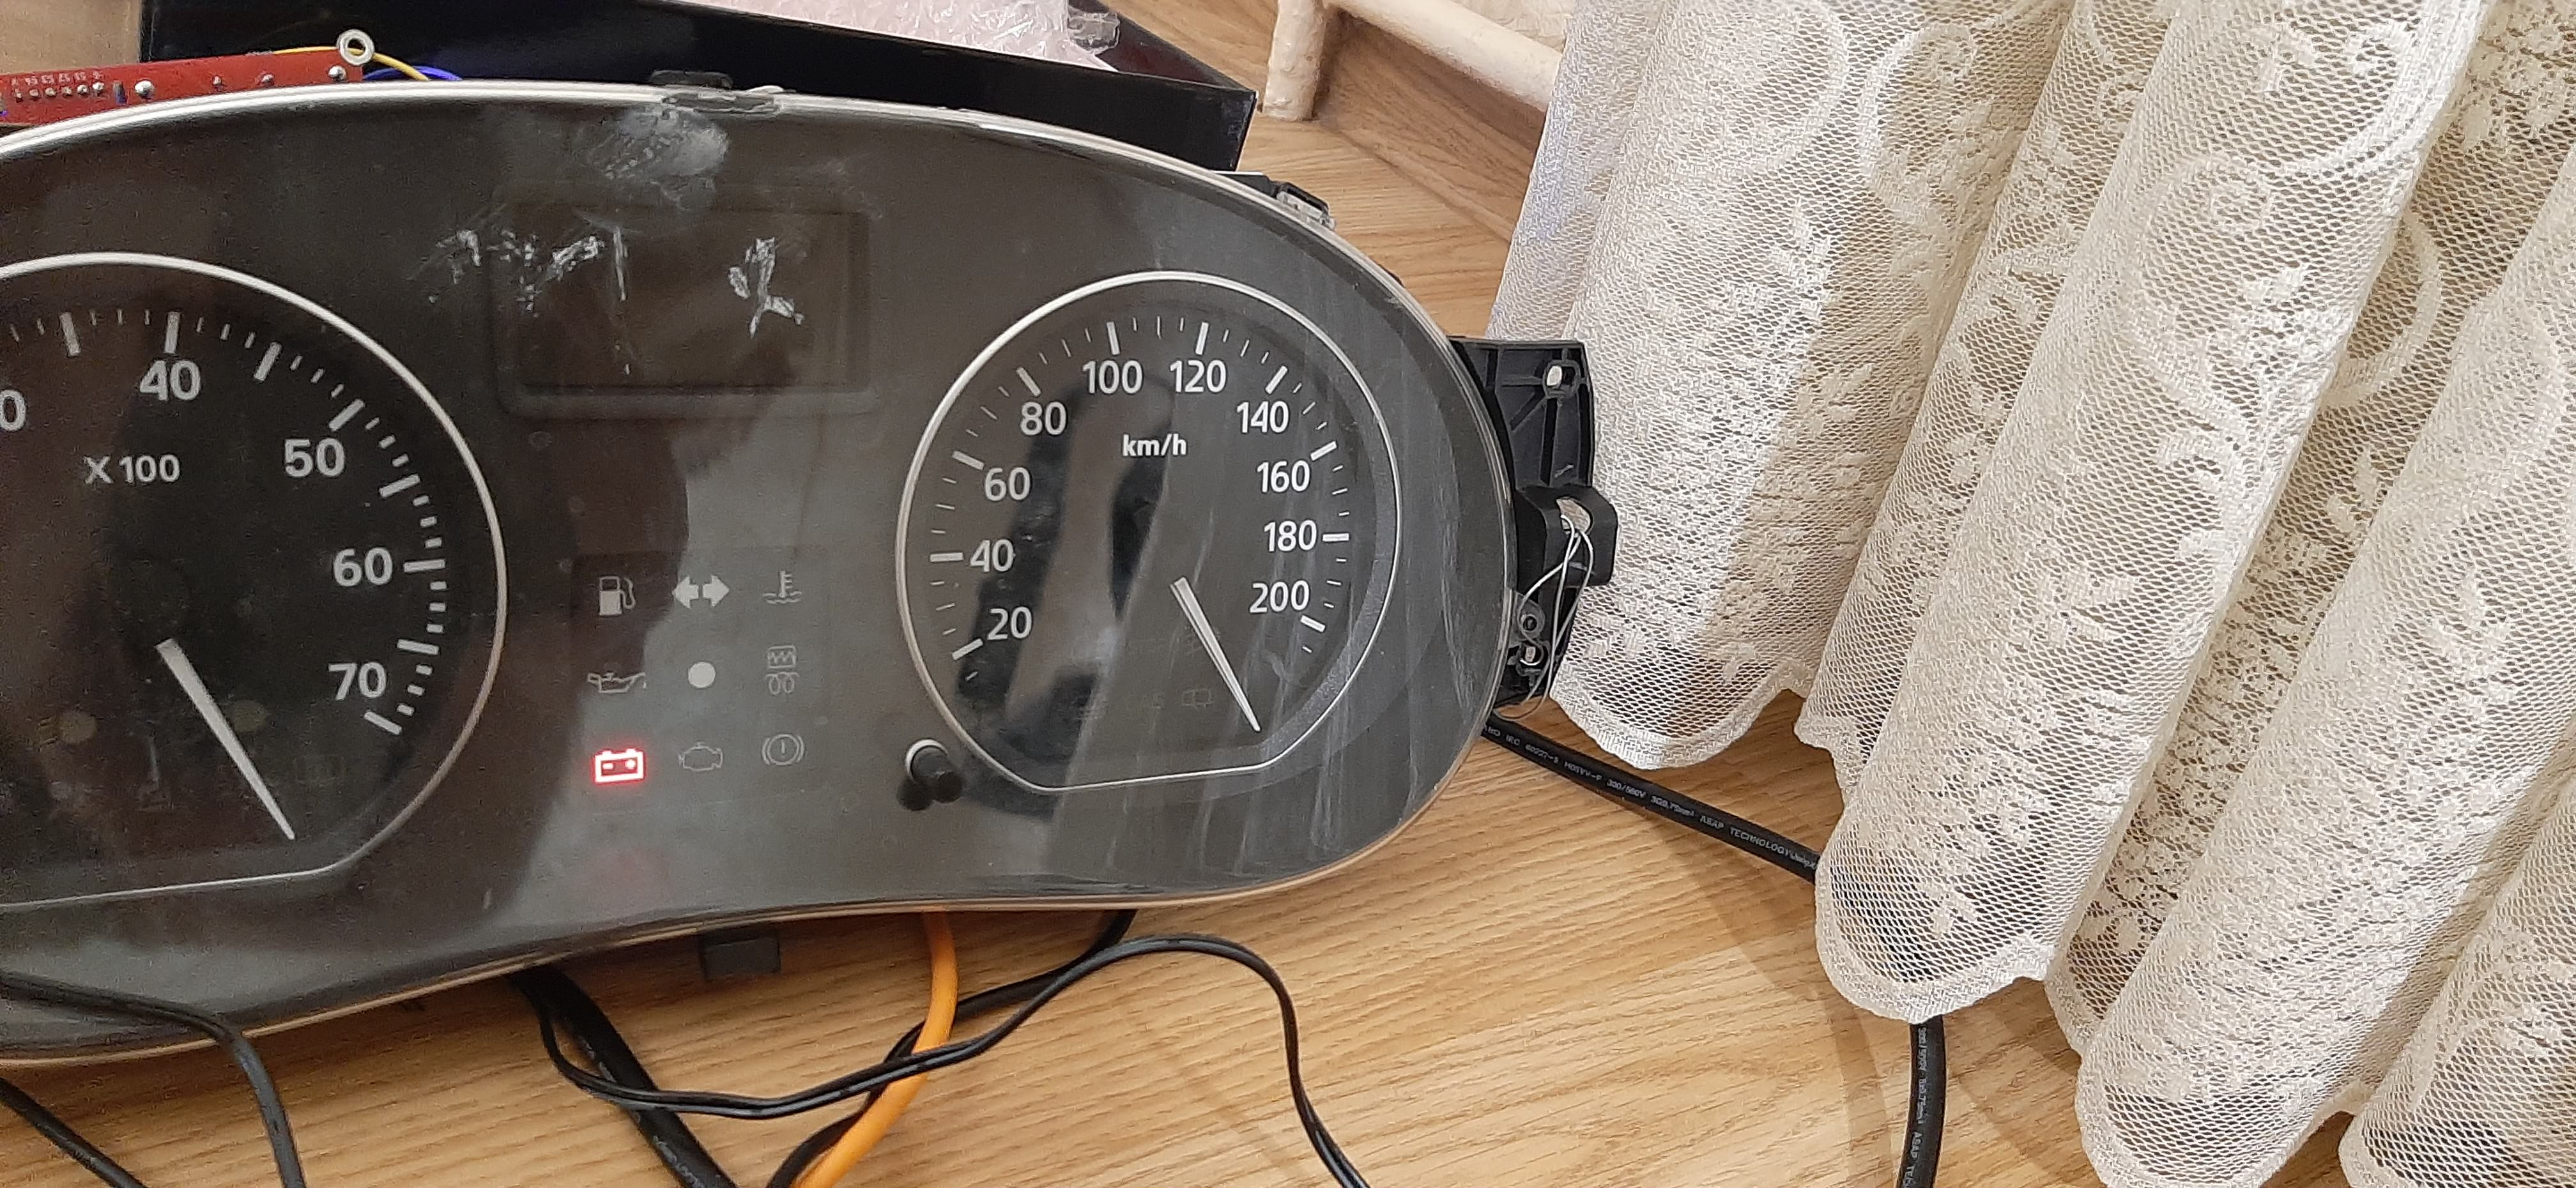accomulator19: (590, 741, 649, 790)
